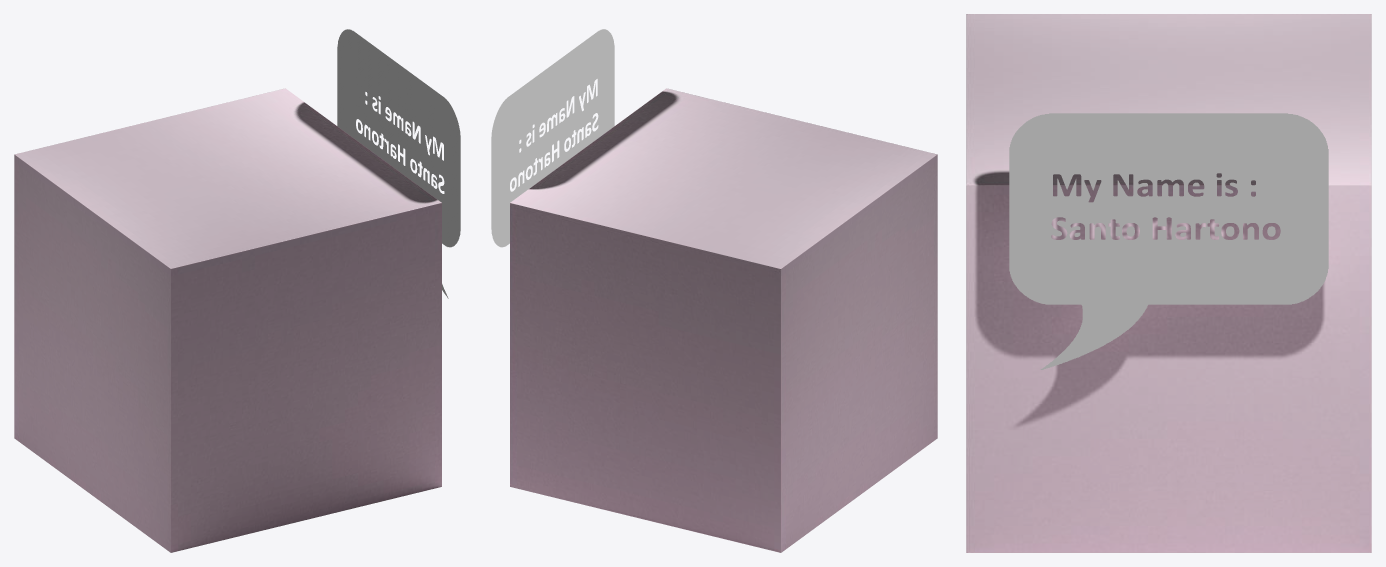
File: BalonKata3.glb
The picture shows the model from 3 angles, left to right: view 1: azimuth 30°, elevation 25°; view 2: azimuth 150°, elevation 25°; view 3: azimuth 270°, elevation 25°; orthographic projection. The views are drawn at different scales.
Parts seen in each view (by area): view 1: Cube, Plane.001; view 2: Cube, Plane.001; view 3: Cube, Plane.001.
Part boxes in pixels (<box>): Cube: <box>14,88,441,552</box>; Plane.001: <box>337,29,460,298</box>; Cube: <box>510,88,937,552</box>; Plane.001: <box>491,29,614,247</box>; Cube: <box>966,14,1371,552</box>; Plane.001: <box>1009,113,1328,369</box>.
Size of what is drawn, in the model's own units: 2.26 by 2.54 by 2.
2 materials, 2 textured.
